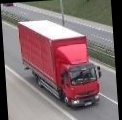truck: (18, 17, 100, 112)
